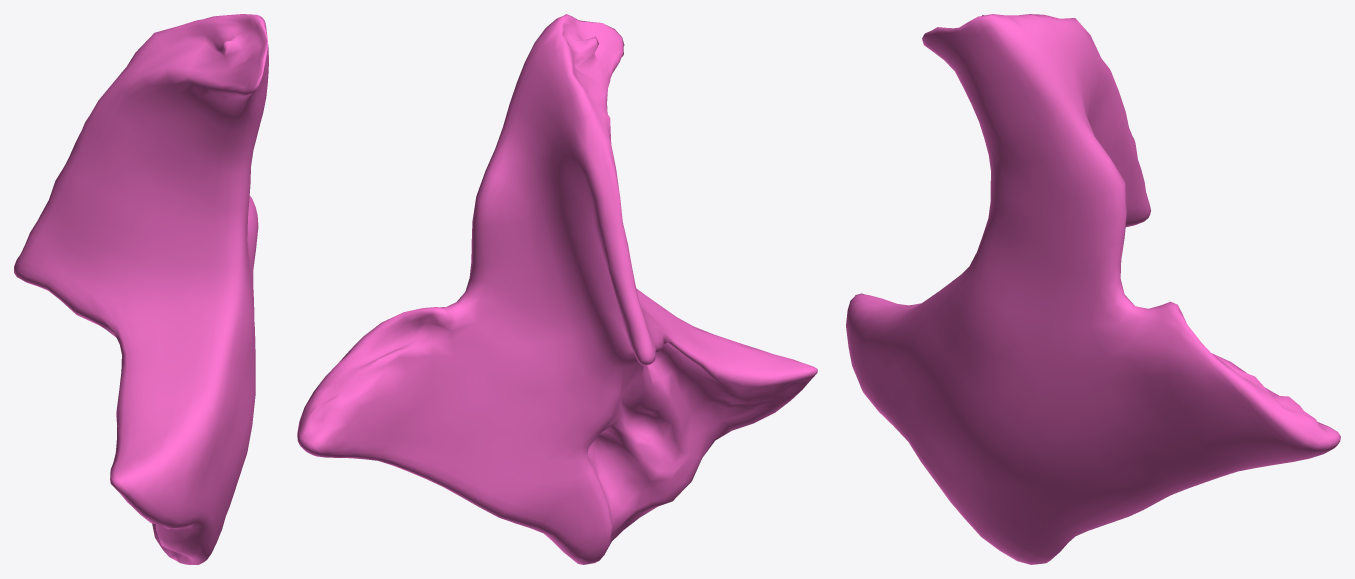
The model's file is Cigomatico_Izquierdo.glb.
3 renders of one model, left to right at view 1: azimuth 30°, elevation 25°; view 2: azimuth 150°, elevation 25°; view 3: azimuth 270°, elevation 25°, orthographic. The views are drawn at different scales.
Visible parts, largest first — view 1: Cigomático Izquierdo; view 2: Cigomático Izquierdo; view 3: Cigomático Izquierdo.
Boxes of the visible parts, x1,y1,x2,y2 form: Cigomático Izquierdo: (14, 14, 268, 564); Cigomático Izquierdo: (297, 14, 817, 564); Cigomático Izquierdo: (846, 14, 1340, 564).
Bounding box in the file's own units: 0.0311 × 0.0488 × 0.0382.
